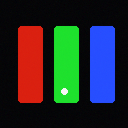0 point: (61, 88, 67, 94)
